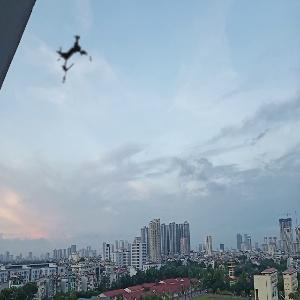drone: (31, 14, 116, 99)
